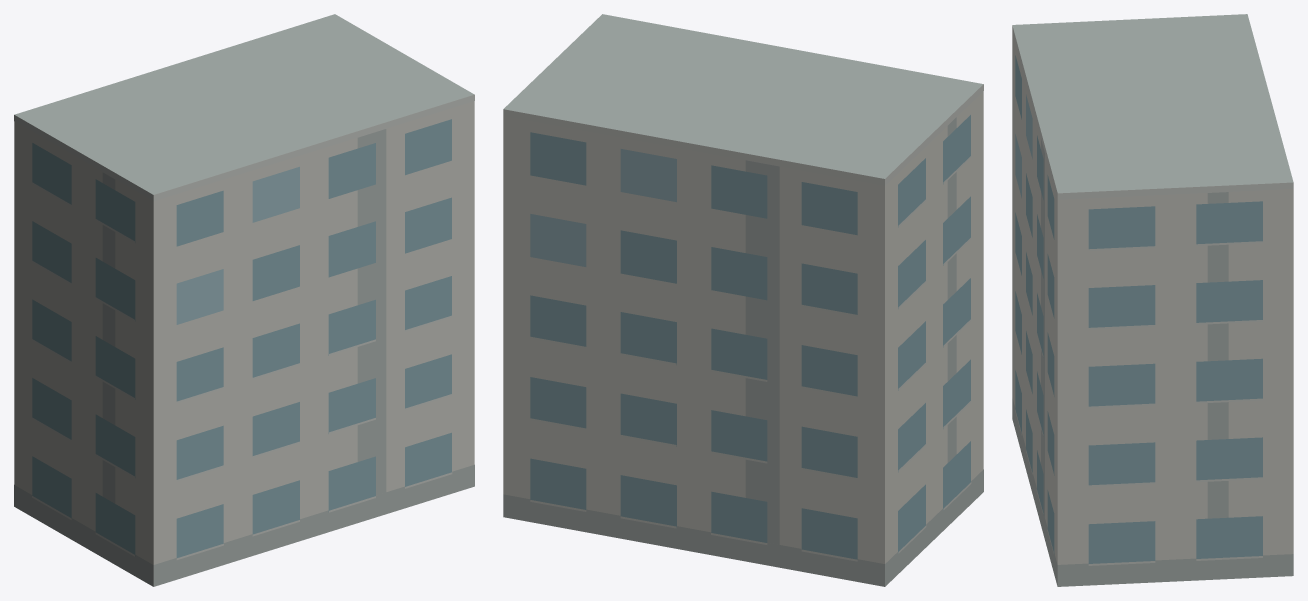
The model's file is survey-upis-32889361.glb.
3 views of the same model, side by side, from view 1: azimuth 30°, elevation 25°; view 2: azimuth 150°, elevation 25°; view 3: azimuth 270°, elevation 25° (orthographic). The views are drawn at different scales.
Visible parts, largest first — view 1: survey-upis-32889361.tmp; view 2: survey-upis-32889361.tmp; view 3: survey-upis-32889361.tmp.
Part boxes in pixels (box(x1,y1,x2,y2)): survey-upis-32889361.tmp: box(14, 14, 474, 586); survey-upis-32889361.tmp: box(503, 14, 983, 586); survey-upis-32889361.tmp: box(1012, 14, 1293, 586).
Size of the model in its own units: 14.28 by 14.6 by 9.47.
